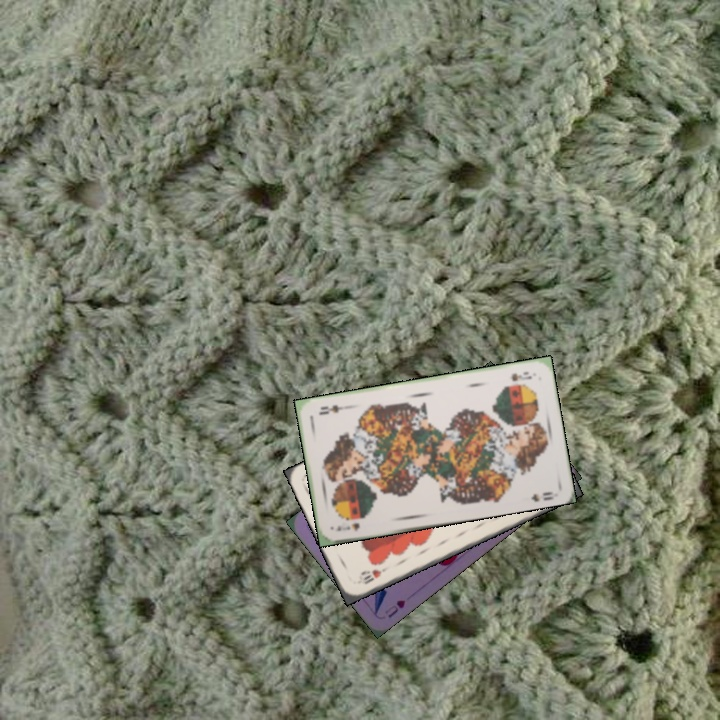H10: (359, 563, 391, 587)
HU: (380, 596, 408, 620)
SO: (332, 519, 362, 534), (507, 368, 534, 384)
